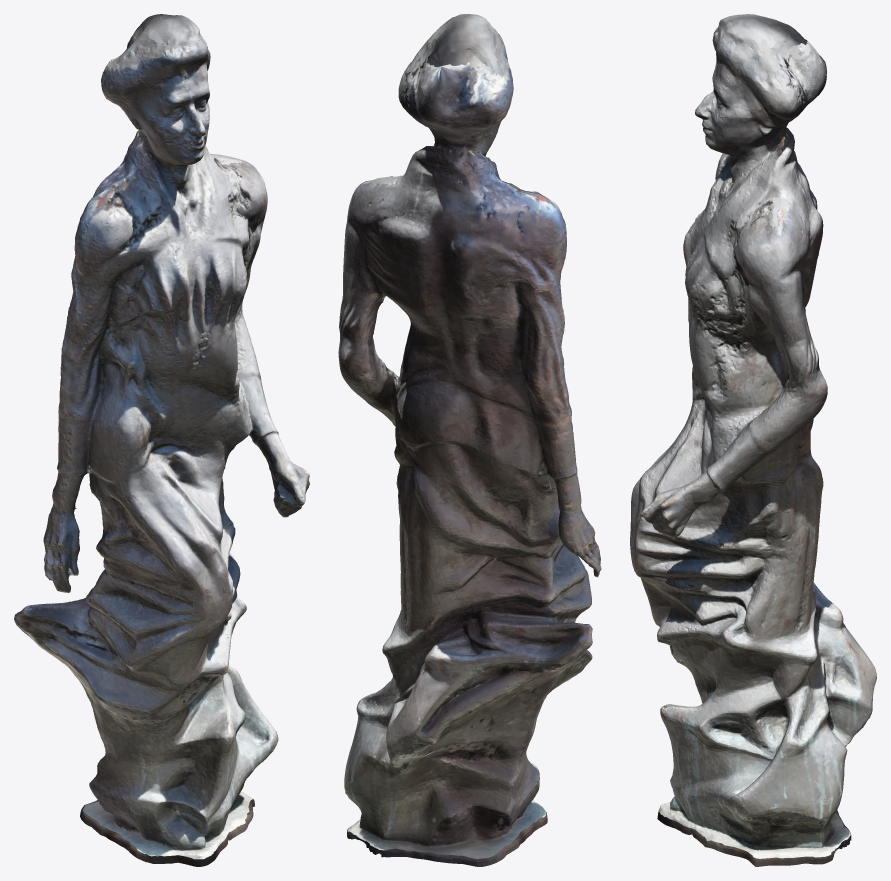
The picture shows the model from 3 angles, left to right: view 1: azimuth 30°, elevation 25°; view 2: azimuth 150°, elevation 25°; view 3: azimuth 270°, elevation 25°; orthographic projection.
Parts seen in each view (by area): view 1: 2k.50k; view 2: 2k.50k; view 3: 2k.50k.
Part boxes in pixels (box(x1,y1,x2,y2)): 2k.50k: box(14, 14, 309, 866); 2k.50k: box(338, 14, 601, 866); 2k.50k: box(630, 14, 876, 866).
Bounding box in the file's own units: 3.06 × 9.67 × 2.67.
1 material, 1 textured.
